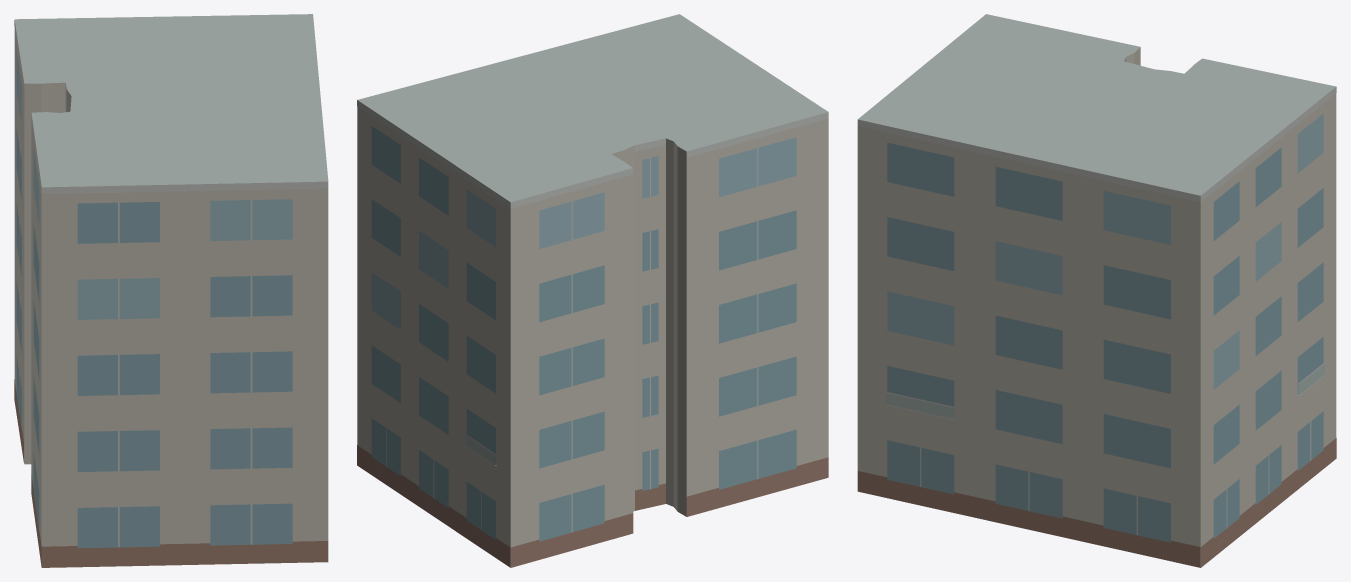
The model's file is survey-upis-32894326.glb.
The picture shows the model from 3 angles, left to right: view 1: azimuth 30°, elevation 25°; view 2: azimuth 150°, elevation 25°; view 3: azimuth 270°, elevation 25°; orthographic projection. The views are drawn at different scales.
Visible parts, largest first — view 1: survey-upis-32894326.tmp; view 2: survey-upis-32894326.tmp; view 3: survey-upis-32894326.tmp.
Part boxes in pixels (bbox=[...]): survey-upis-32894326.tmp: bbox=[14, 14, 328, 567]; survey-upis-32894326.tmp: bbox=[357, 14, 828, 567]; survey-upis-32894326.tmp: bbox=[857, 14, 1336, 567].
Size of the model in its own units: 14.47 by 13.8 by 16.11.
